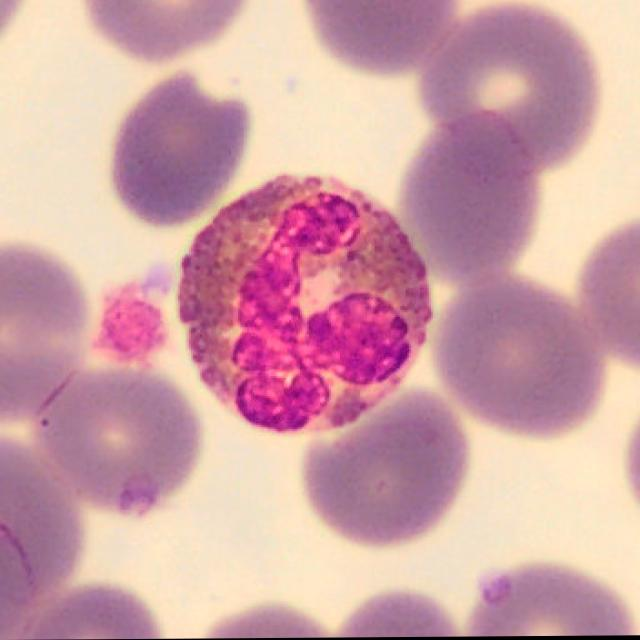Eosinofilo: (176, 175, 433, 434)
